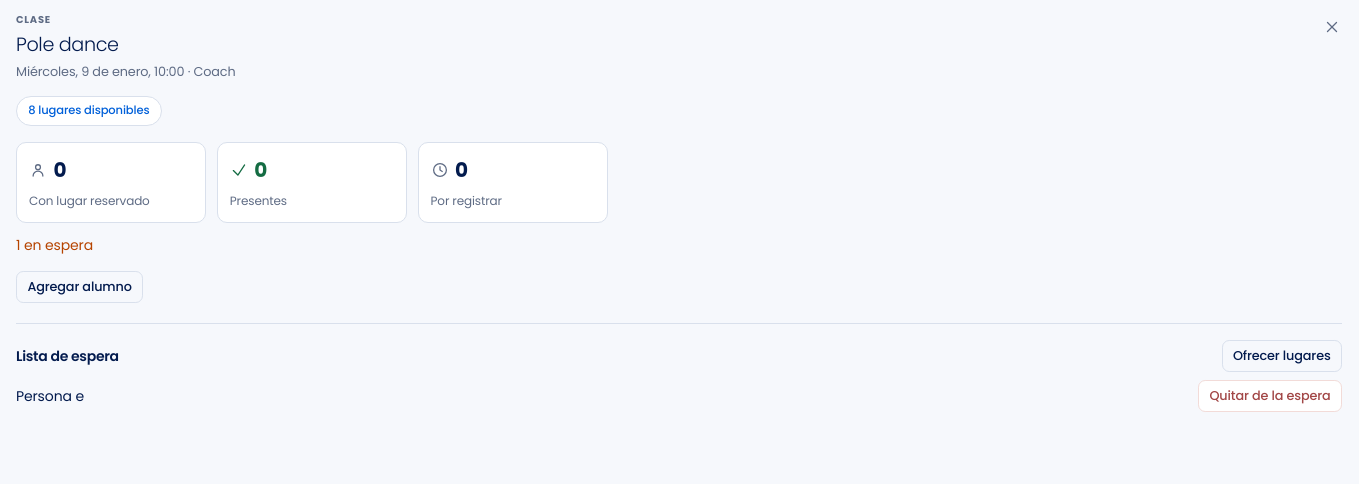
Scenario: detalle de la clase › al cancelar una reserva queda a la vista a quién y qué pasó con su crédito
Click the button "Quitar de la espera": (1270, 396) top-left (1198, 380), bottom-right (1342, 412)
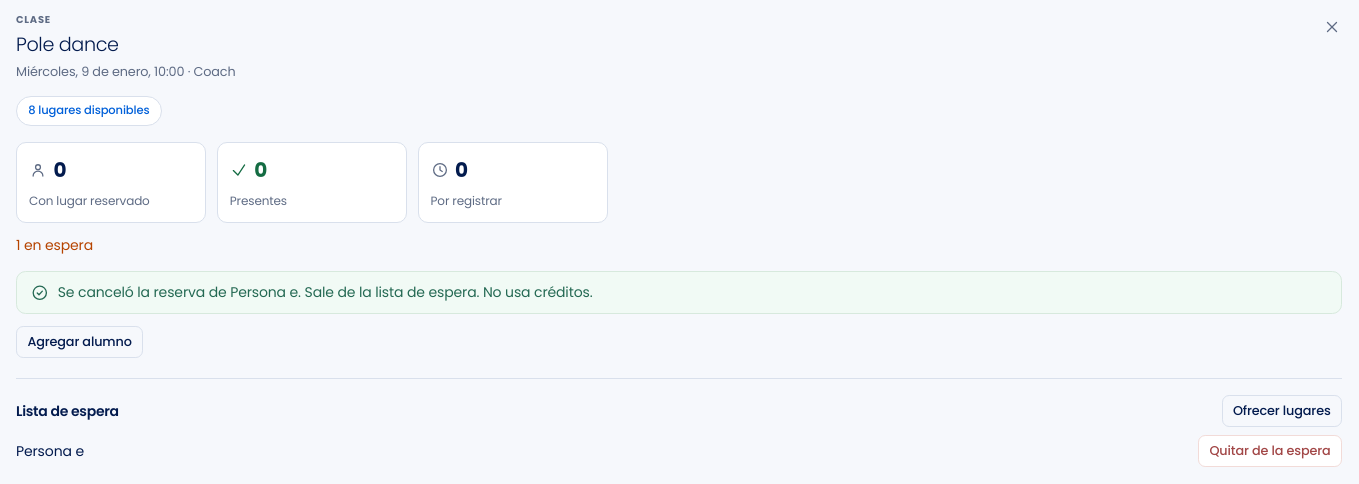
Expected: the text "Se canceló la reserva de Persona e. Sale de la lista de espera. No usa créditos." is shown, top-left (58, 282), bottom-right (592, 302)
